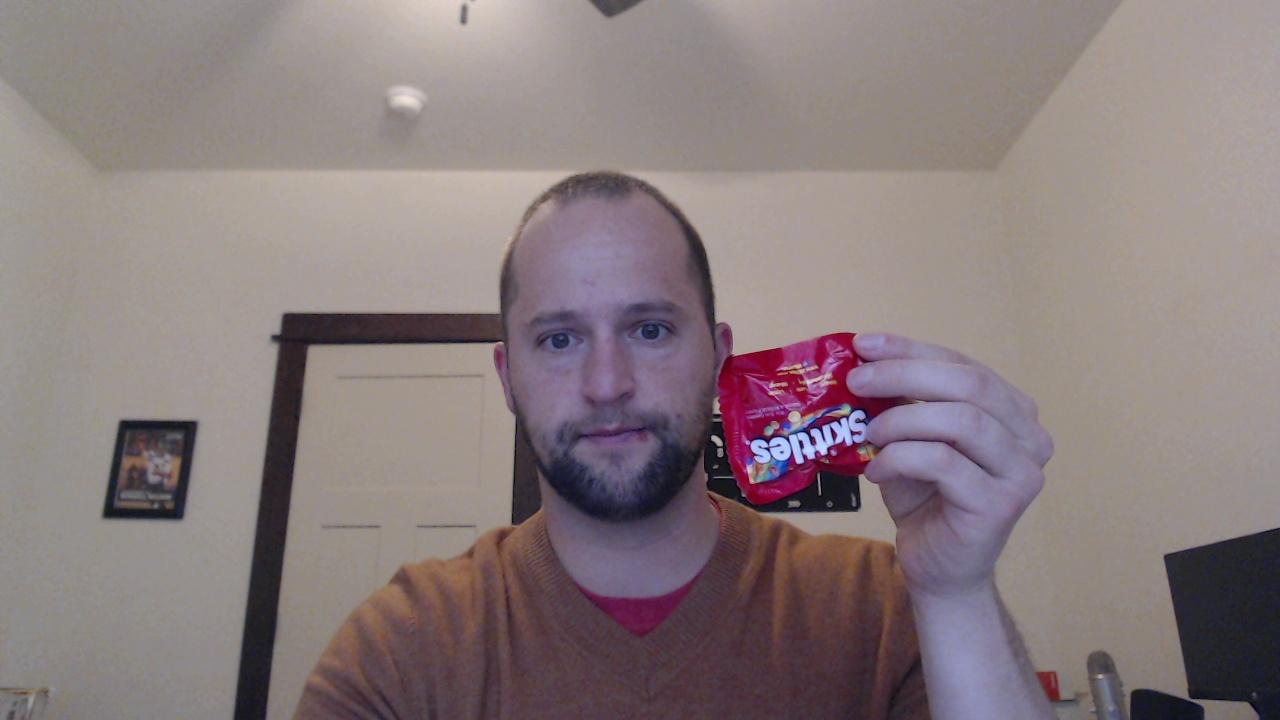skittles: (715, 331, 898, 500)
